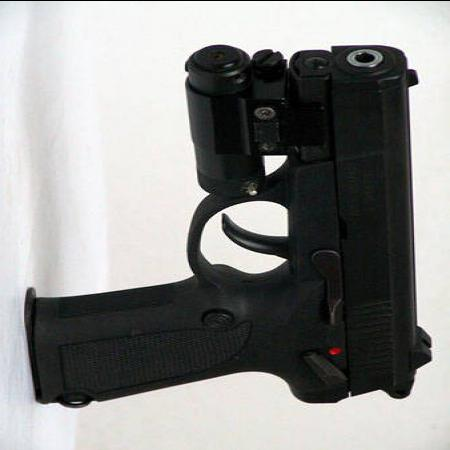Pistol: (30, 42, 436, 405)
